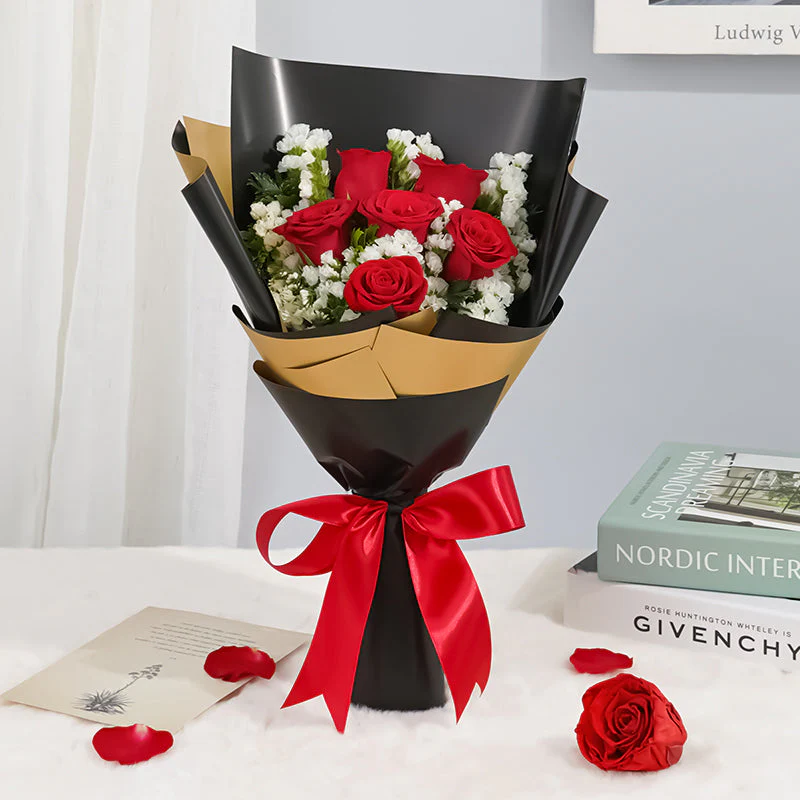Red: (443, 210, 520, 279), (356, 186, 443, 242), (274, 201, 353, 262), (345, 258, 428, 316), (334, 147, 395, 204)
White: (275, 120, 332, 201), (383, 125, 444, 189), (269, 273, 341, 323), (455, 280, 519, 323), (485, 152, 531, 210)
